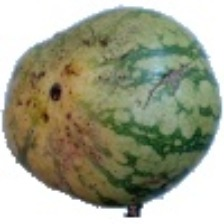watermelon: (32, 30, 214, 210)
